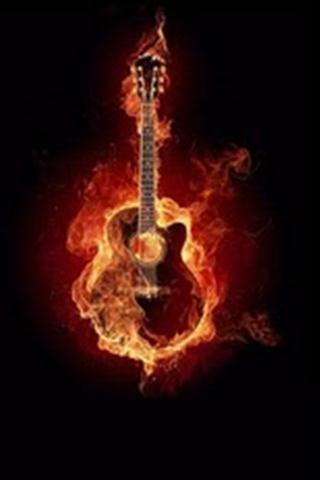fire: (67, 184, 130, 236)
